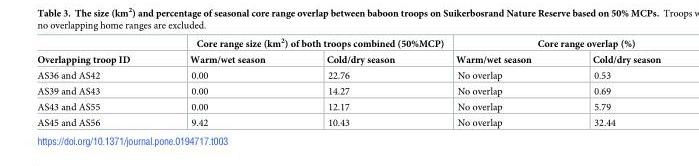table: (36, 36, 660, 127)
table column: (295, 36, 449, 127), (159, 36, 295, 127), (36, 36, 159, 127), (449, 36, 561, 127), (561, 36, 660, 127)
table column header: (36, 36, 660, 67)
table row: (36, 51, 660, 67), (36, 67, 660, 83), (36, 98, 660, 114), (36, 36, 660, 51), (36, 83, 660, 98), (36, 114, 660, 127)
table spanning cell: (159, 36, 449, 51), (36, 36, 159, 67), (449, 36, 660, 51)
